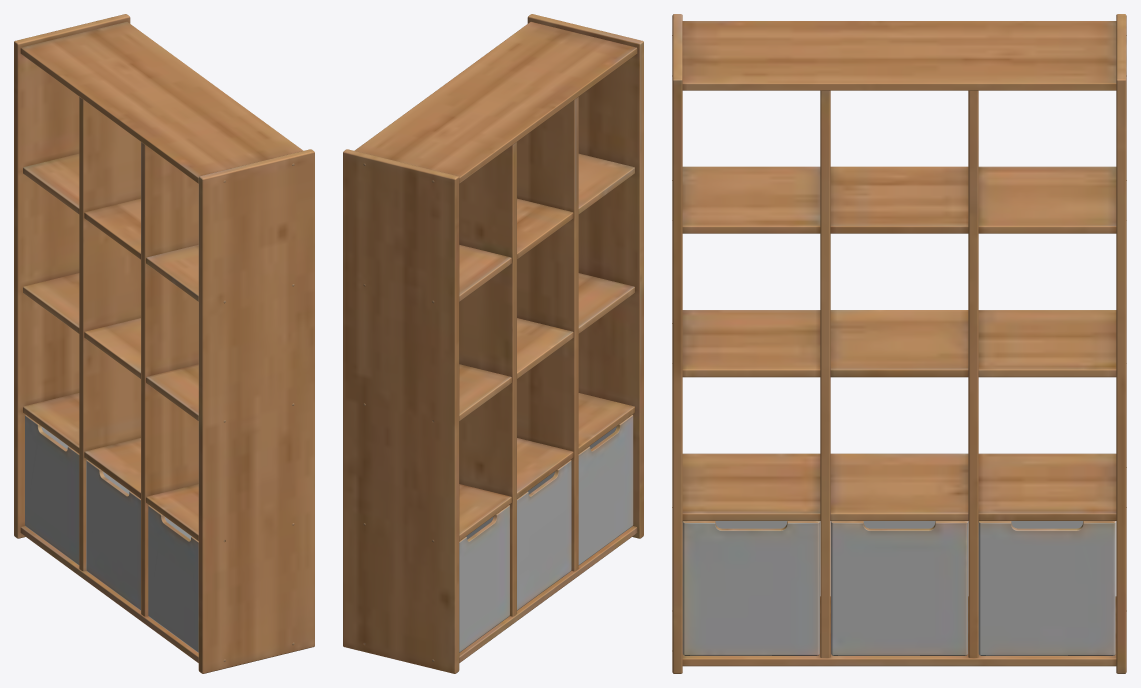
The model's file is cube-shelf.glb.
3 views of the same model, side by side, from view 1: azimuth 30°, elevation 25°; view 2: azimuth 150°, elevation 25°; view 3: azimuth 270°, elevation 25° (orthographic). The views are drawn at different scales.
Parts seen in each view (by area): view 1: wooden_display_shelves_01, wooden_display_shelves_01_drawer_01, wooden_display_shelves_01_drawer_02, wooden_display_shelves_01_drawer_03; view 2: wooden_display_shelves_01, wooden_display_shelves_01_drawer_03, wooden_display_shelves_01_drawer_02, wooden_display_shelves_01_drawer_01; view 3: wooden_display_shelves_01, wooden_display_shelves_01_drawer_03, wooden_display_shelves_01_drawer_01, wooden_display_shelves_01_drawer_02.
Boxes of the visible parts, box(x1,y1,x2,y2) form: wooden_display_shelves_01: box(14, 14, 314, 673); wooden_display_shelves_01_drawer_01: box(25, 415, 79, 565); wooden_display_shelves_01_drawer_02: box(86, 460, 140, 610); wooden_display_shelves_01_drawer_03: box(148, 505, 198, 652); wooden_display_shelves_01: box(343, 14, 643, 673); wooden_display_shelves_01_drawer_03: box(578, 415, 633, 565); wooden_display_shelves_01_drawer_02: box(517, 460, 571, 610); wooden_display_shelves_01_drawer_01: box(459, 505, 509, 652); wooden_display_shelves_01: box(672, 14, 1126, 673); wooden_display_shelves_01_drawer_03: box(682, 521, 819, 655); wooden_display_shelves_01_drawer_01: box(978, 521, 1115, 655); wooden_display_shelves_01_drawer_02: box(831, 521, 967, 655).
Size of the model in its own units: 0.3714 by 1.56 by 1.08.
Materials: 1 (1 with a texture image).
